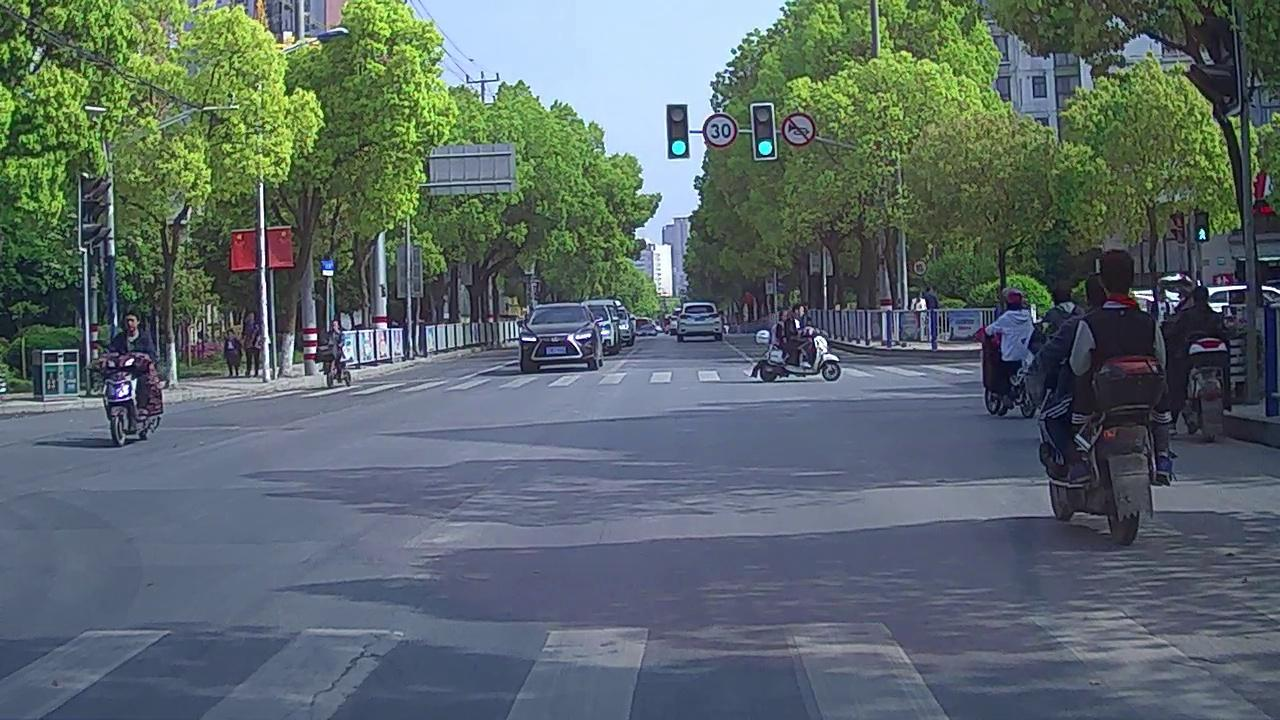traffic_light: (752, 104, 773, 160), (669, 104, 688, 161)
